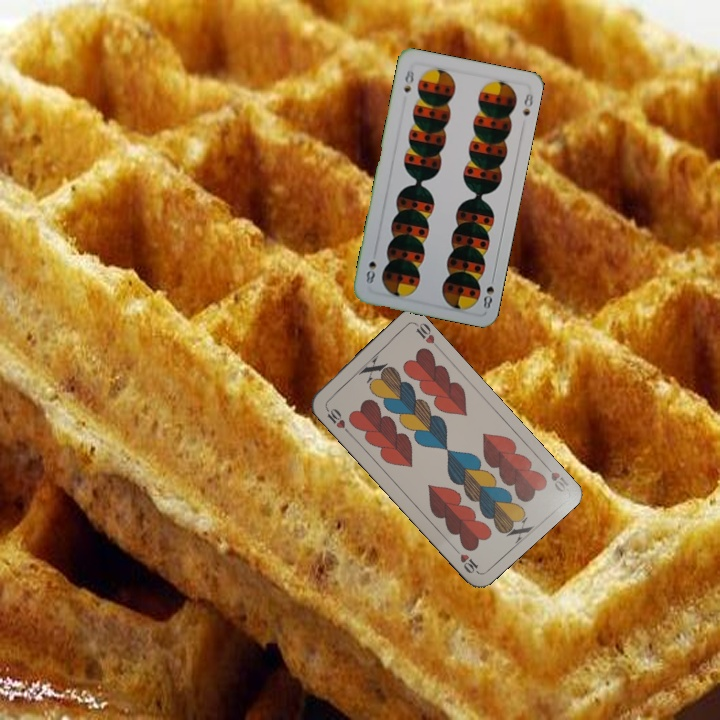H10: (539, 458, 571, 495), (321, 402, 352, 436)
S8: (479, 271, 497, 311), (400, 63, 417, 95)
